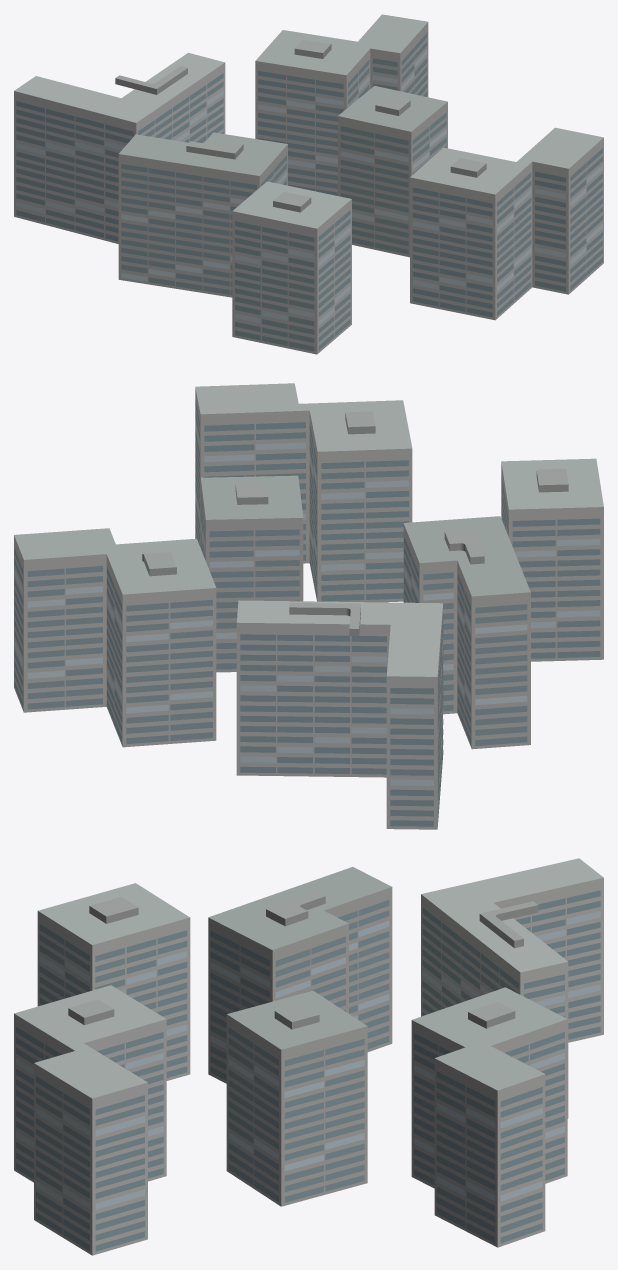
File: apt-a15685503.glb
The picture shows the model from 3 angles, top to bottom: view 1: azimuth 30°, elevation 25°; view 2: azimuth 150°, elevation 25°; view 3: azimuth 270°, elevation 25°; orthographic projection. The views are drawn at different scales.
Visible parts, largest first — view 1: apt-a15685503; view 2: apt-a15685503; view 3: apt-a15685503.
Part boxes in pixels (bbox=[...]): apt-a15685503: bbox=[14, 14, 603, 354]; apt-a15685503: bbox=[14, 383, 603, 829]; apt-a15685503: bbox=[14, 858, 603, 1255].
Bounding box in the file's own units: 125 × 40 × 130.
